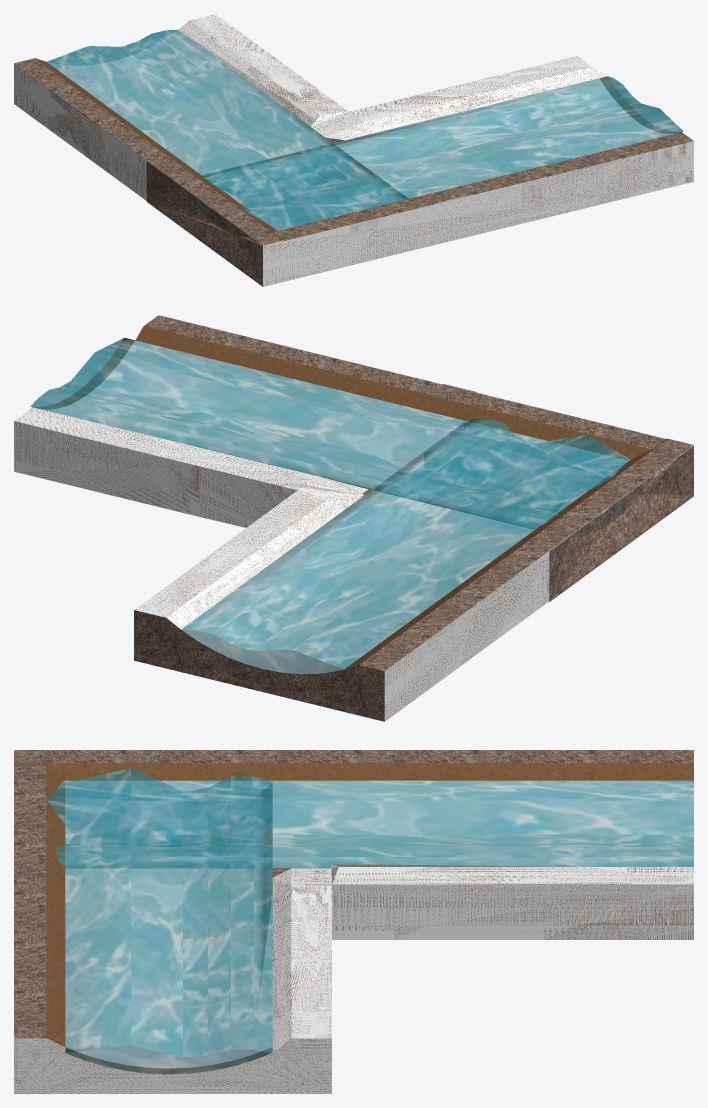
File: wire_turn.dae
The picture shows the model from 3 angles, top to bottom: view 1: azimuth 30°, elevation 25°; view 2: azimuth 150°, elevation 25°; view 3: azimuth 270°, elevation 25°; orthographic projection. The views are drawn at different scales.
Parts seen in each view (by area): view 1: SketchUp (×12); view 2: SketchUp (×13); view 3: SketchUp (×10).
Boxes of the visible parts, x1,y1,x2,y2 form: SketchUp (×12): (14, 14, 693, 286); SketchUp (×13): (14, 315, 693, 721); SketchUp (×10): (14, 750, 693, 1093).
Bounding box in the file's own units: 142 × 139 × 12.85.
